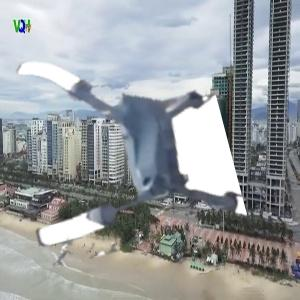drone: (4, 31, 225, 252)
